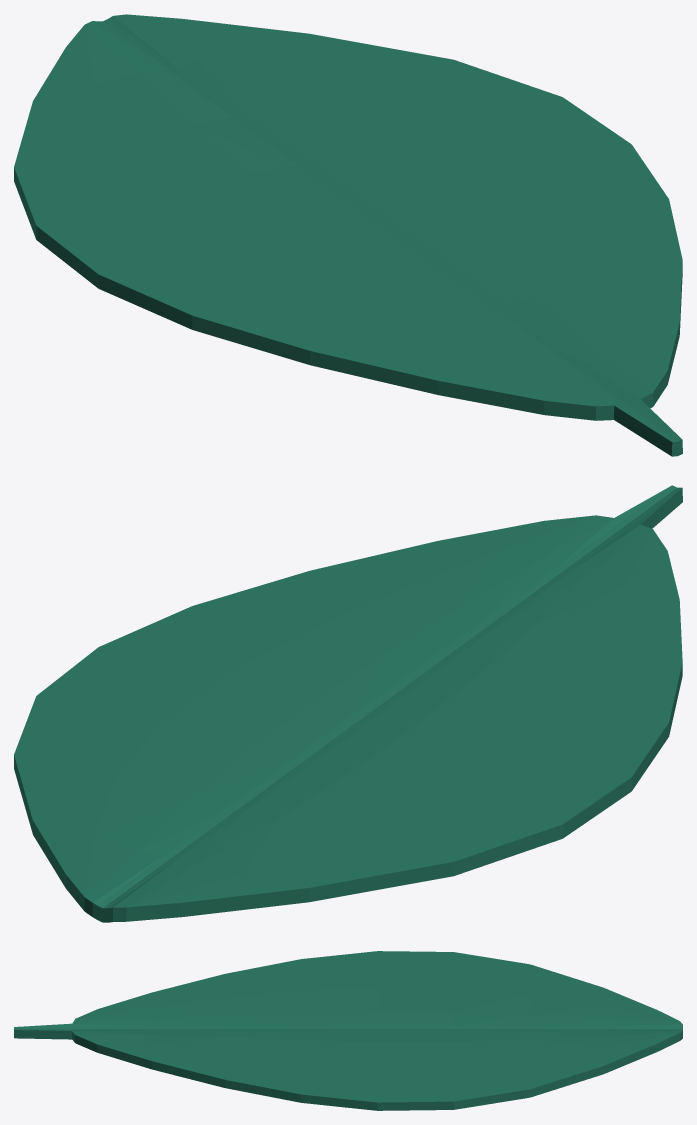
Rendered from leaf.obj.
The picture shows the model from 3 angles, top to bottom: view 1: azimuth 30°, elevation 25°; view 2: azimuth 150°, elevation 25°; view 3: azimuth 270°, elevation 25°; orthographic projection. The views are drawn at different scales.
Visible parts, largest first — view 1: 平面; view 2: 平面; view 3: 平面.
Part boxes in pixels (x1,y1,x2,y2): 平面: [14, 14, 682, 456]; 平面: [14, 485, 682, 922]; 平面: [14, 951, 682, 1110].
Size of the model in its own units: 0.9189 by 0.0303 by 1.72.
1 material, 1 textured.
